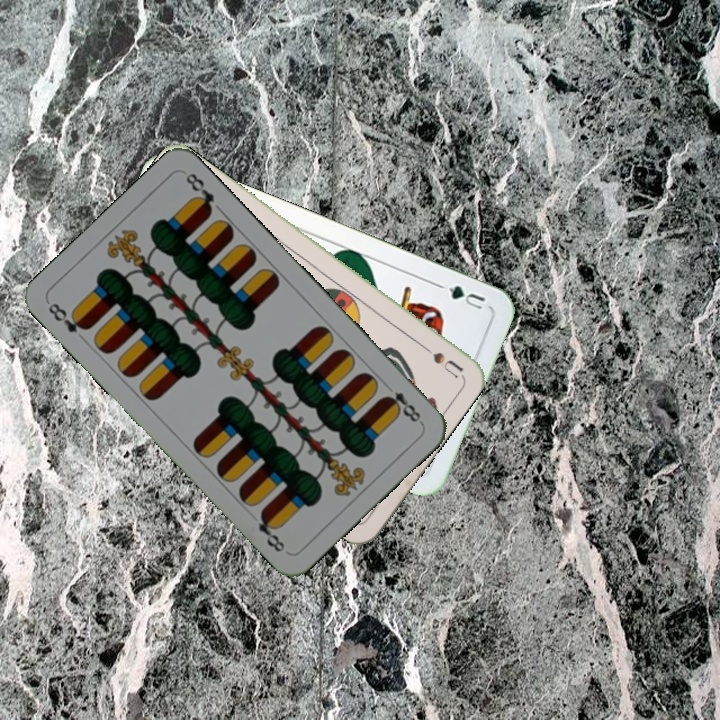E8: (44, 298, 93, 336), (379, 387, 425, 426)
GU: (444, 281, 488, 314)
SU: (412, 336, 465, 380)
